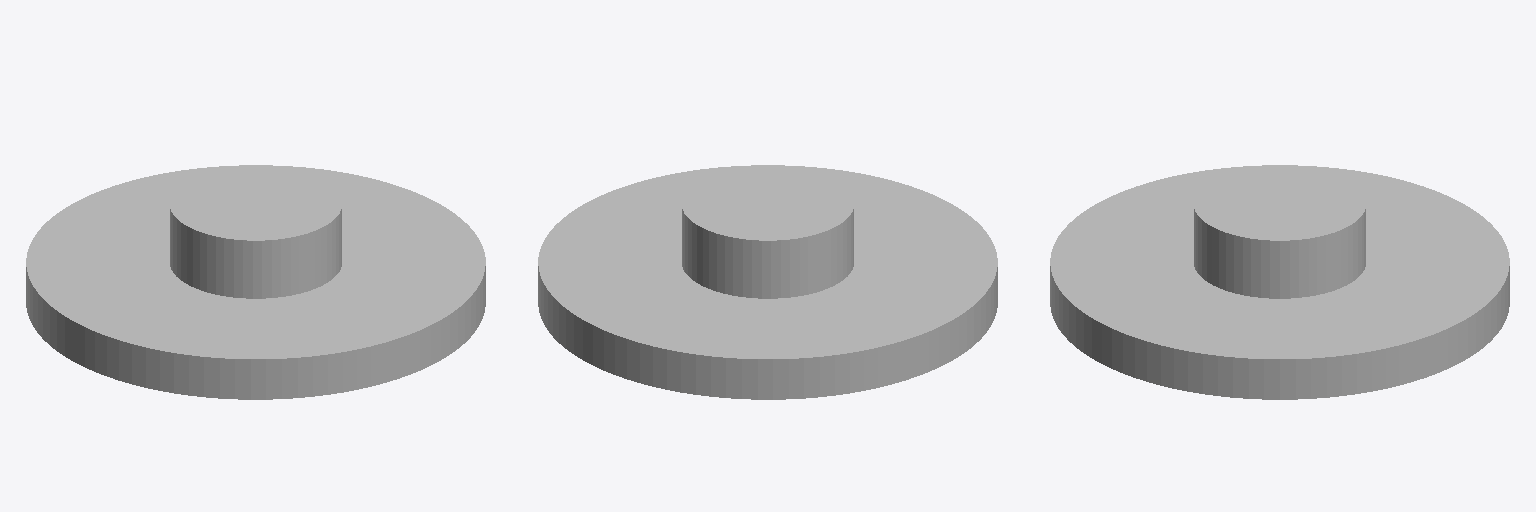
The model's file is flange_21-b0-subdiviced-blender-simplified-2000.obj.
3 views of the same model, side by side, from view 1: azimuth 30°, elevation 25°; view 2: azimuth 150°, elevation 25°; view 3: azimuth 270°, elevation 25° (orthographic).
Visible parts, largest first — view 1: flange_21-b0-subdiviced; view 2: flange_21-b0-subdiviced; view 3: flange_21-b0-subdiviced.
Part boxes in pixels (left/top/right/bottom): flange_21-b0-subdiviced: left=26, top=165, right=485, bottom=399; flange_21-b0-subdiviced: left=538, top=165, right=997, bottom=399; flange_21-b0-subdiviced: left=1050, top=165, right=1509, bottom=399.
Size of the model in its own units: 165 by 41 by 165.